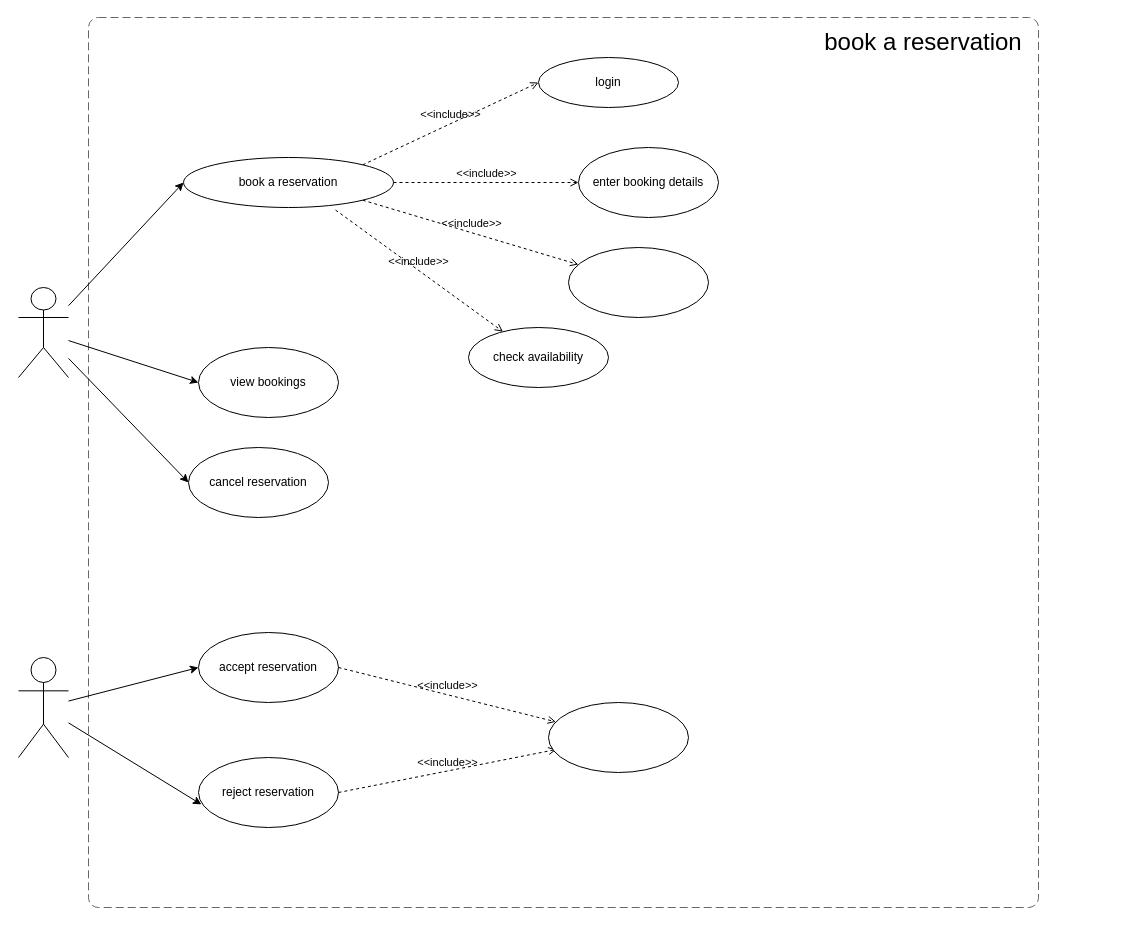
This 1126x925 diagram has some shape labels left out. Here are the shapes that lost their labels. From the top down, the centre of each, then its label:
pixel 638 282: validate booking
pixel 43 332: pet owner
pixel 43 707: pet sitter
pixel 618 737: send notification
